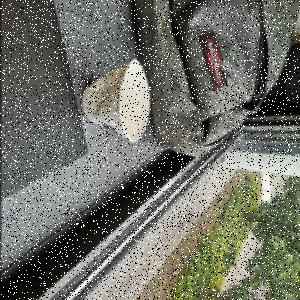Cup: (81, 59, 151, 146)
